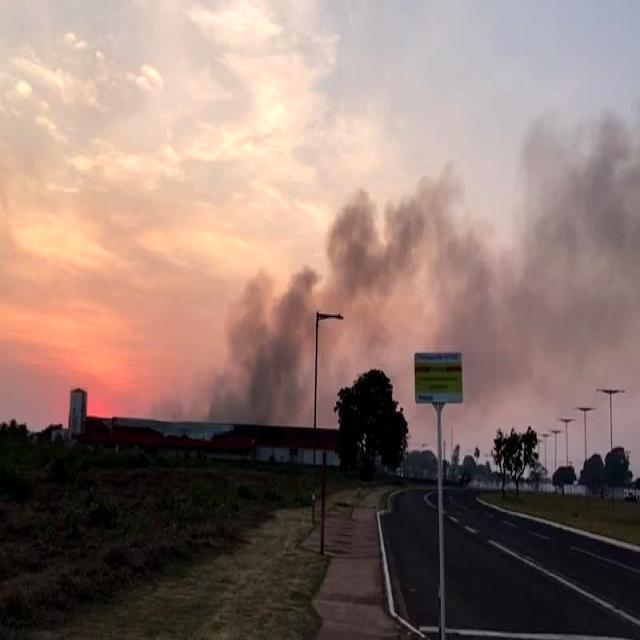Smoke: (436, 105, 640, 444), (220, 206, 398, 421)
